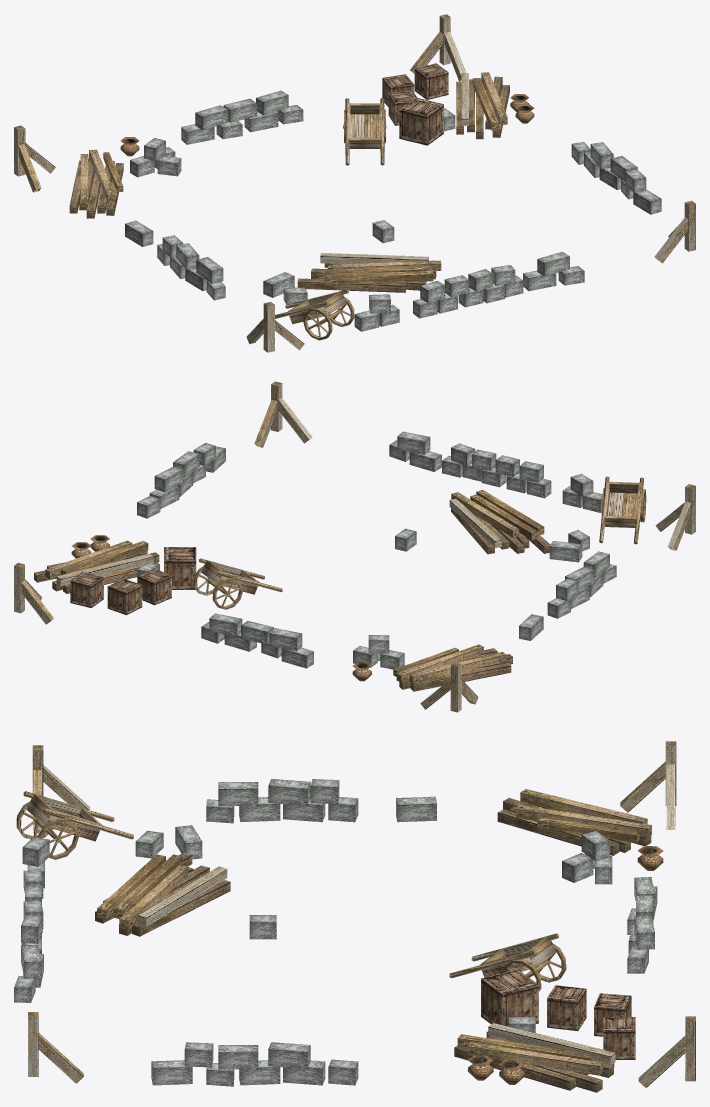
The model's file is found_6x6_a.dae.
3 renders of one model, top to bottom at view 1: azimuth 30°, elevation 25°; view 2: azimuth 150°, elevation 25°; view 3: azimuth 270°, elevation 25°, orthographic. The views are drawn at different scales.
Visible parts, largest first — view 1: Object10-Pivot; view 2: Object10-Pivot; view 3: Object10-Pivot.
Boxes of the visible parts, bbox=[...] form: Object10-Pivot: bbox=[14, 14, 695, 352]; Object10-Pivot: bbox=[14, 381, 695, 712]; Object10-Pivot: bbox=[14, 741, 695, 1092].
Size of the model in its own units: 28.42 by 28.13 by 3.08.
